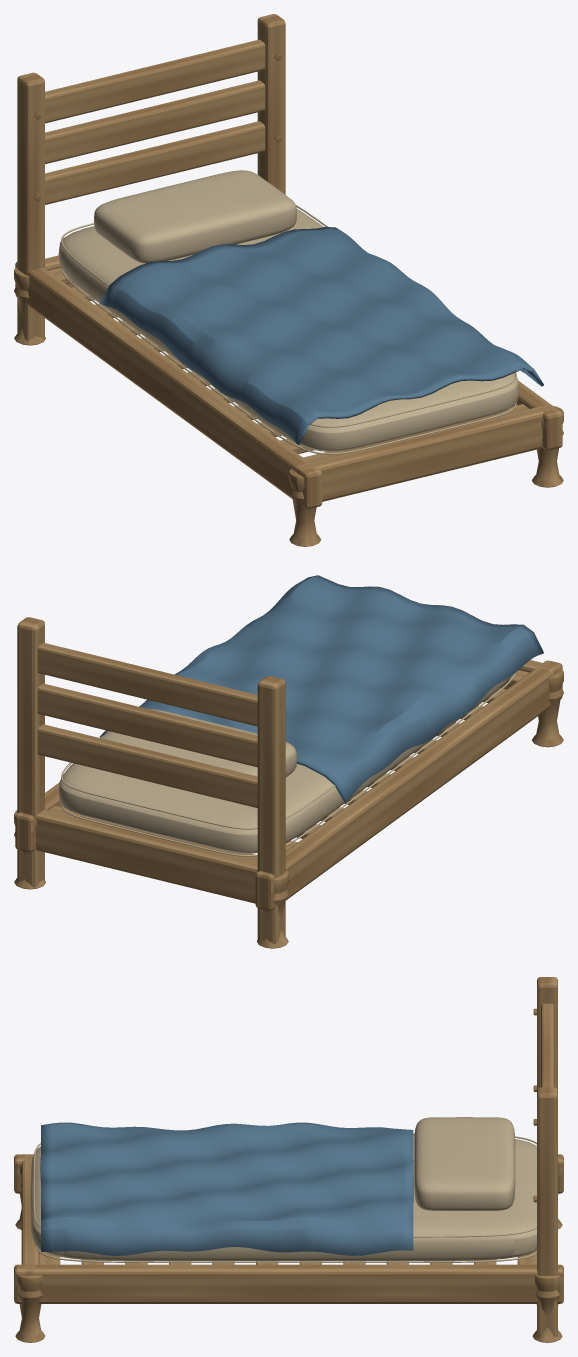
File: bed_standard.glb
The picture shows the model from 3 angles, top to bottom: view 1: azimuth 30°, elevation 25°; view 2: azimuth 150°, elevation 25°; view 3: azimuth 270°, elevation 25°; orthographic projection. The views are drawn at different scales.
Visible parts, largest first — view 1: duvet_sculpted_folds, mortised_side_rail, pillow, mattress, end_rail, head_slat.002, head_slat.001, head_slat, head_post, head_post.001, turned_bed_foot, mortised_side_rail.001 (+5 smaller); view 2: duvet_sculpted_folds, mortised_side_rail, mattress, end_rail.001, head_slat, head_slat.002, head_slat.001, head_post, head_post.001, pillow, turned_bed_foot, mattress_lower_piping (+4 smaller); view 3: duvet_sculpted_folds, mortised_side_rail.001, mattress, pillow, head_post.001, turned_bed_foot.002, end_rail, head_post, head_slat.002, mattress_lower_piping, turned_bed_foot.003, mattress_upper_piping (+1 smaller).
Boxes of the visible parts, x1,y1,x2,y2 form: duvet_sculpted_folds: [99, 227, 543, 445]; mortised_side_rail: [15, 262, 322, 508]; pillow: [94, 170, 296, 263]; mattress: [58, 208, 519, 451]; end_rail: [295, 405, 554, 501]; head_slat.002: [45, 39, 265, 123]; head_slat.001: [45, 80, 265, 164]; head_slat: [45, 121, 265, 204]; head_post: [17, 72, 44, 341]; head_post.001: [257, 14, 285, 194]; turned_bed_foot: [289, 468, 321, 546]; mortised_side_rail.001: [513, 381, 562, 450]; duvet_sculpted_folds: [99, 575, 543, 802]; mortised_side_rail: [255, 660, 562, 910]; mattress: [58, 676, 511, 853]; end_rail.001: [35, 810, 257, 903]; head_slat: [37, 724, 257, 807]; head_slat.002: [37, 642, 257, 726]; head_slat.001: [37, 683, 257, 767]; head_post: [257, 676, 285, 944]; head_post.001: [17, 617, 44, 887]; pillow: [100, 709, 296, 794]; turned_bed_foot: [532, 669, 563, 747]; mattress_lower_piping: [61, 672, 516, 856]; duvet_sculpted_folds: [40, 1122, 413, 1255]; mortised_side_rail.001: [14, 1264, 563, 1303]; mattress: [30, 1135, 536, 1261]; pillow: [414, 1117, 515, 1210]; head_post.001: [537, 1087, 557, 1337]; turned_bed_foot.002: [15, 1275, 45, 1342]; end_rail: [21, 1154, 39, 1275]; head_post: [537, 977, 557, 1089]; head_slat.002: [541, 1003, 553, 1087]; mattress_lower_piping: [34, 1244, 536, 1262]; turned_bed_foot.003: [532, 1275, 562, 1342]; mattress_upper_piping: [33, 1133, 536, 1237].
Bounding box in the file's own units: 1.25 × 1.16 × 2.34.
4 materials, 3 textured.
